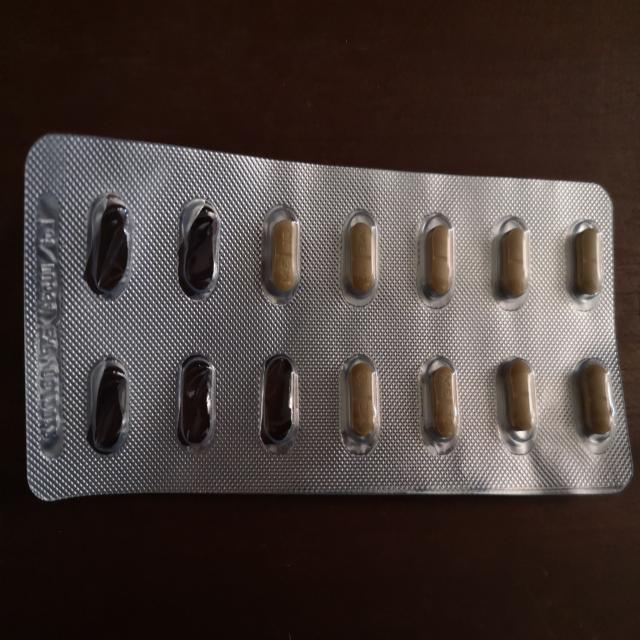Empty: (79, 189, 137, 302), (82, 350, 137, 462), (252, 345, 305, 459), (173, 192, 224, 304), (172, 347, 222, 459)
Pill: (333, 345, 389, 457), (256, 199, 308, 303), (337, 203, 386, 308), (492, 348, 542, 449), (417, 350, 464, 456), (488, 208, 534, 312), (560, 216, 610, 310), (412, 208, 457, 312), (570, 353, 617, 444)
